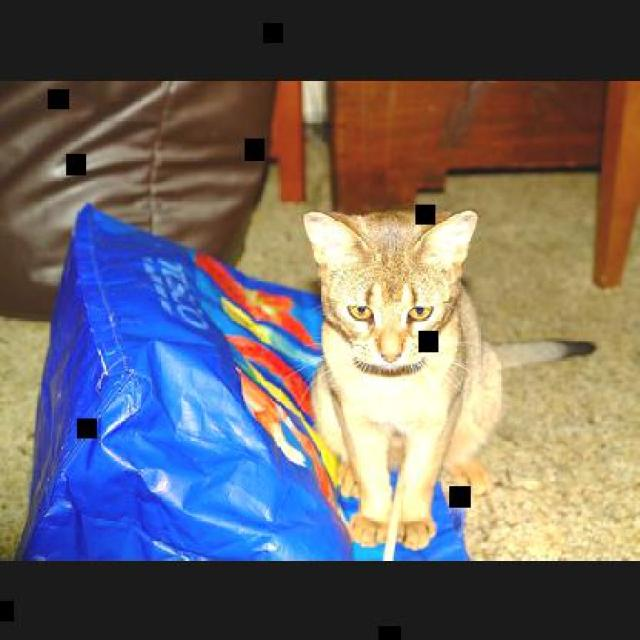unauthorized: (302, 206, 596, 551)
